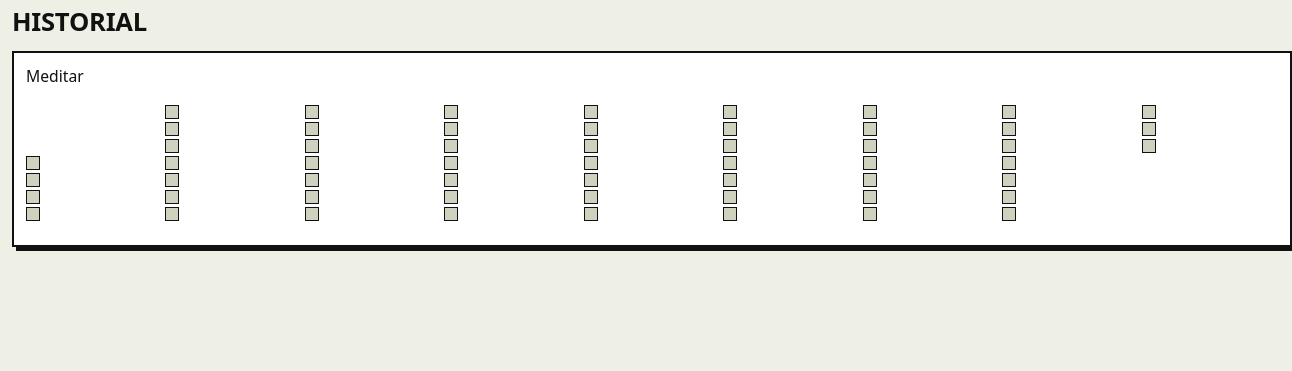
HistoryScreen › tocar el hábito expandido lo colapsa de nuevo
The width and height of the screenshot is (1292, 371).
Click the button "Meditar" at (55, 76), box x1=26 y1=65 x2=1278 y2=87
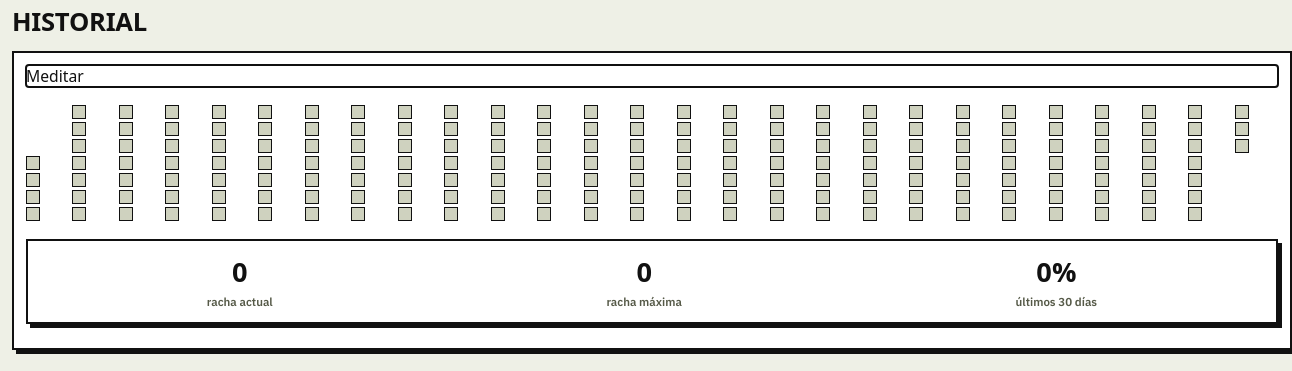
Expected: the text with test id "racha-actual" is shown, x1=232 y1=253 x2=248 y2=290
Click the button "Meditar" at (55, 76), box x1=26 y1=65 x2=1278 y2=87
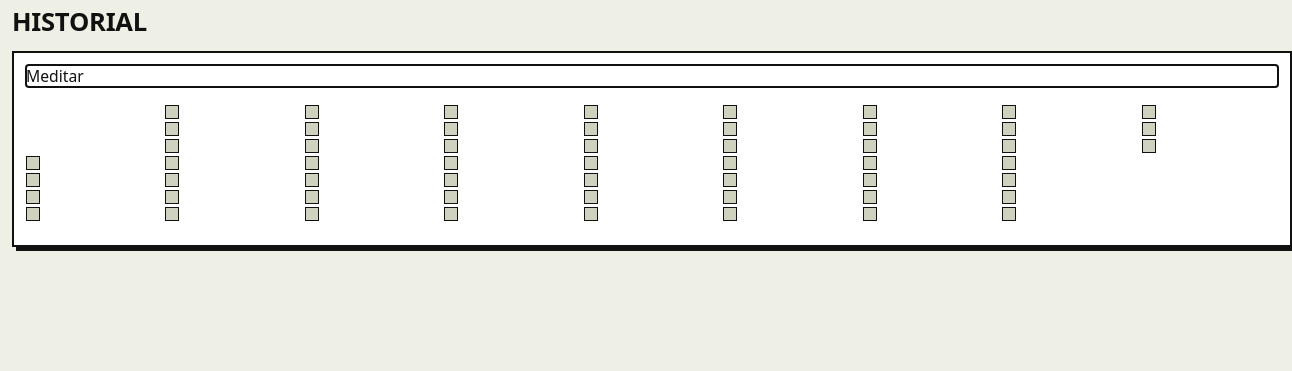
Expected: the text with test id "racha-actual" is gone
